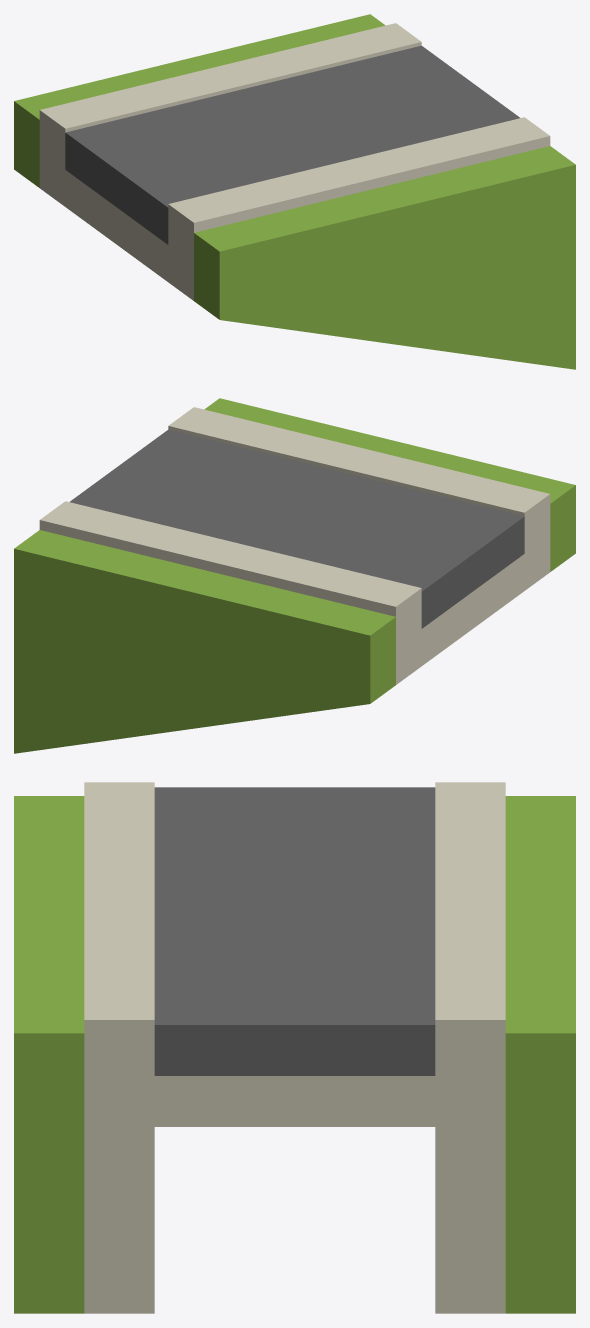
Rendered from roadTile_170.obj.
3 views of the same model, one above another, from view 1: azimuth 30°, elevation 25°; view 2: azimuth 150°, elevation 25°; view 3: azimuth 270°, elevation 25° (orthographic). The views are drawn at different scales.
Visible parts, largest first — view 1: Mesh1_Group1_Model.169; view 2: Mesh1_Group1_Model.169; view 3: Mesh1_Group1_Model.169.
Part boxes in pixels (<box>): Mesh1_Group1_Model.169: <box>14,14,575,369</box>; Mesh1_Group1_Model.169: <box>14,398,575,753</box>; Mesh1_Group1_Model.169: <box>14,782,575,1313</box>.
Bounding box in the file's own units: 3 × 1.73 × 3.
